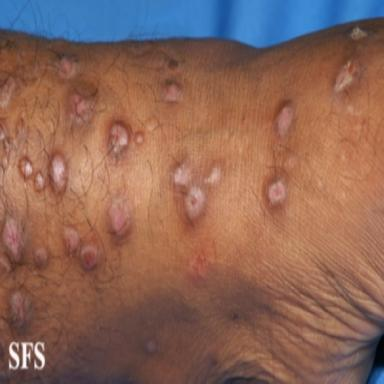Epidermolysis-Bullosa-Pruriginosa: (0, 70, 32, 332), (170, 161, 221, 223), (63, 225, 101, 270), (66, 78, 97, 125), (107, 121, 144, 160), (107, 193, 133, 239), (19, 157, 46, 191), (49, 151, 67, 195), (334, 61, 356, 92), (275, 104, 295, 138), (265, 181, 286, 207), (31, 243, 49, 268), (163, 82, 181, 103), (60, 57, 74, 75), (350, 27, 367, 40), (145, 338, 157, 355)
